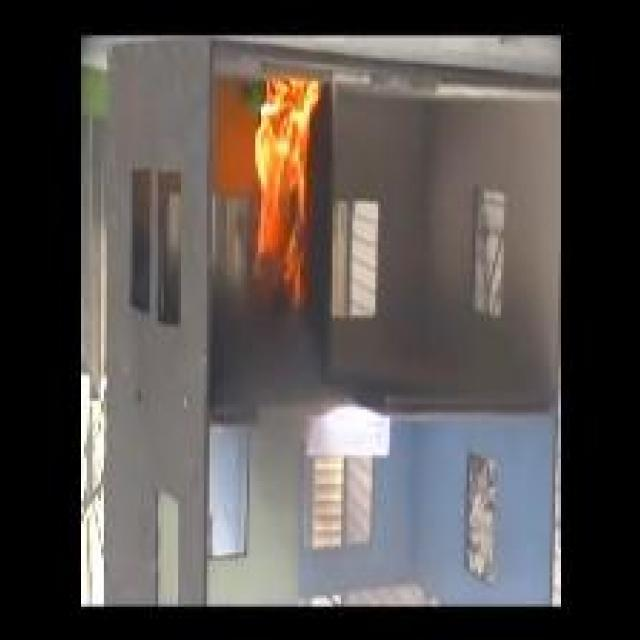Fire: (252, 76, 318, 304)
